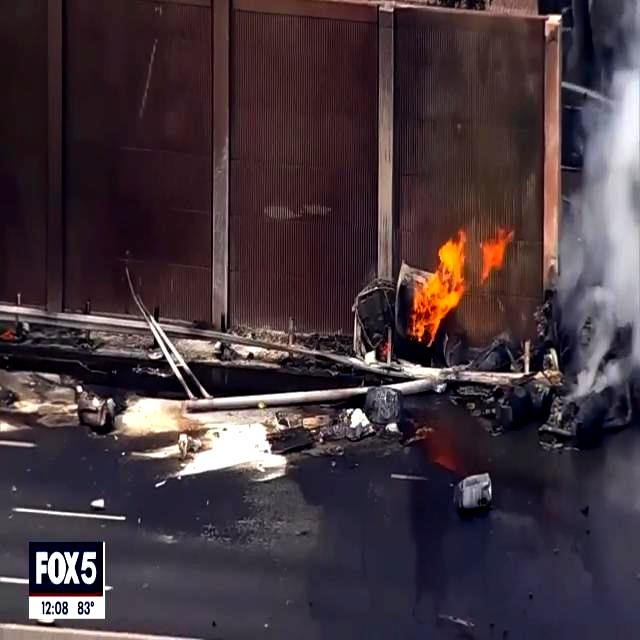fire: (410, 224, 514, 348)
